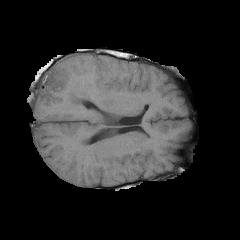glioma: (38, 64, 96, 113)
